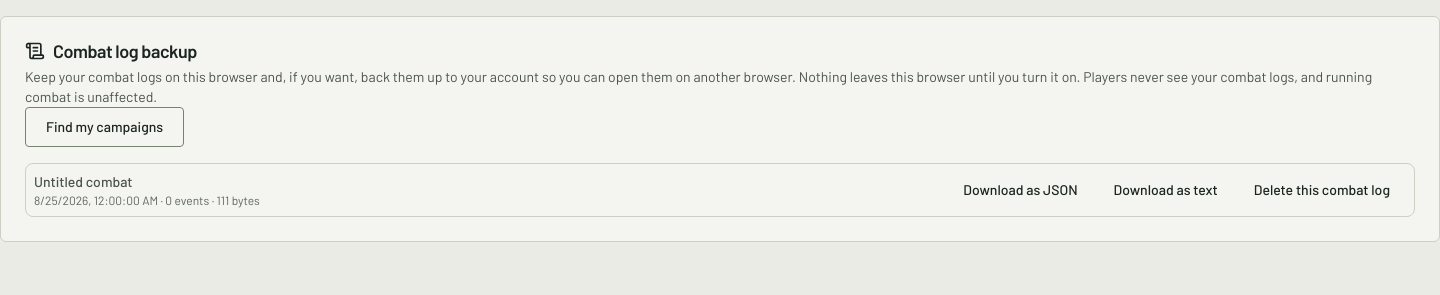
CombatLogArchiveSyncControls durability guards › refuses a delete when a routed marker exists before authority resolves
Click the button "Delete this combat log". click: (1322, 190)
box: 1238,172 -> 1406,208
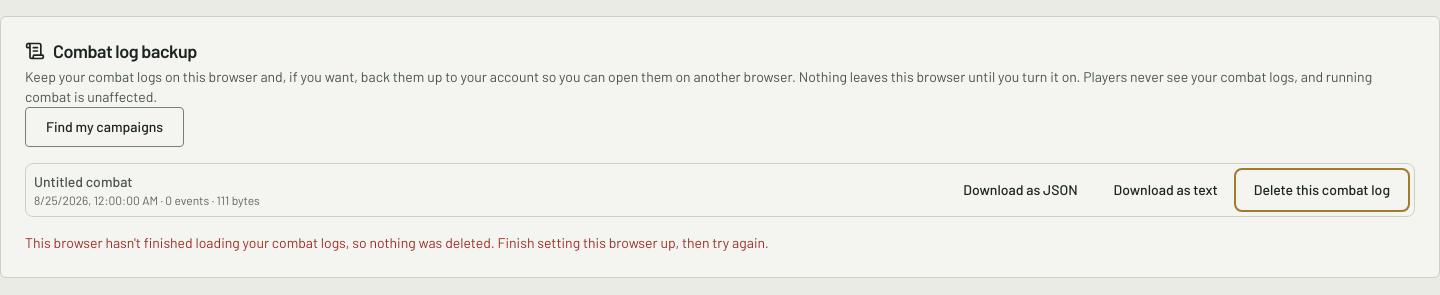
Result: the text "This browser hasn't finished loading your combat logs, so nothing was deleted. Finish setting this browser up, then try " is shown at 25,234 -> 769,251
